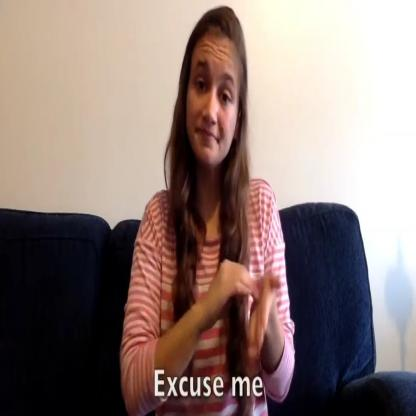ExcuseMe: (204, 239, 288, 362)
